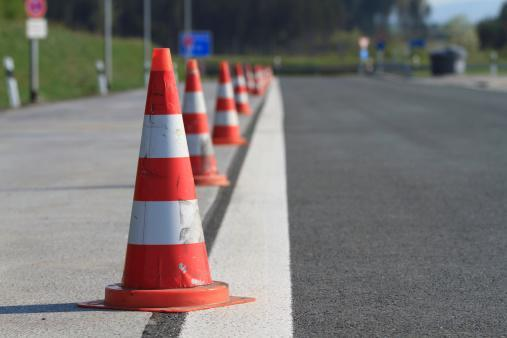Cone: (108, 48, 226, 310), (173, 59, 233, 185), (211, 61, 241, 145), (232, 61, 255, 113), (245, 62, 266, 98)
